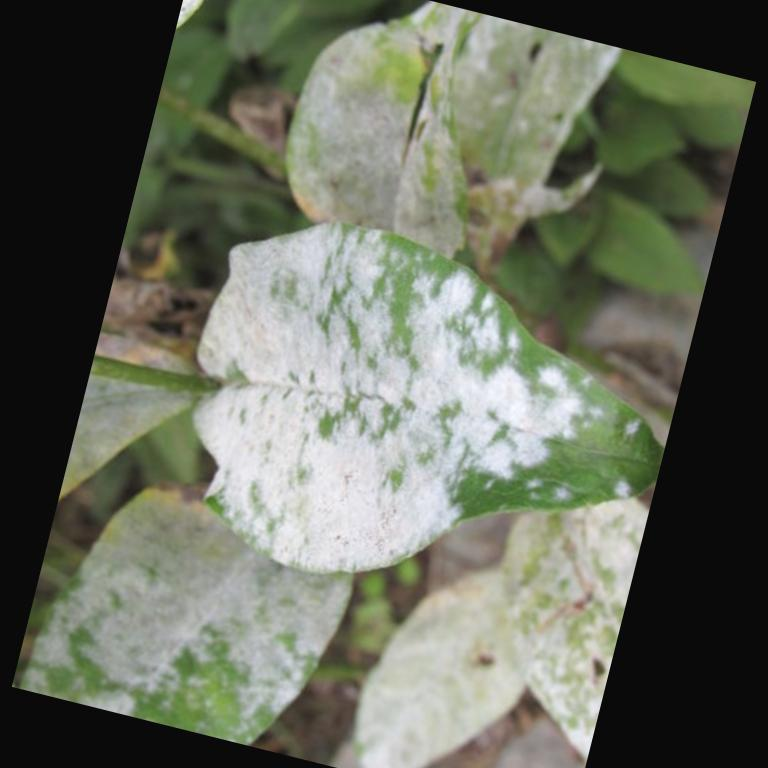powdery-mildew: (221, 237, 466, 550), (434, 348, 584, 500)
